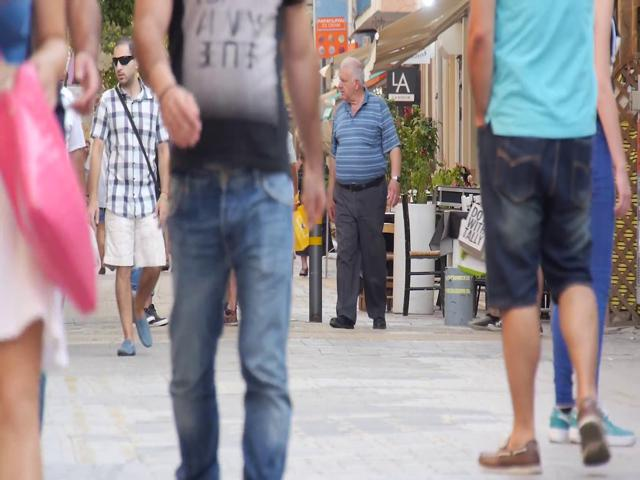shoe: (478, 438, 541, 477), (580, 401, 611, 468), (134, 309, 154, 348), (328, 314, 356, 329), (117, 339, 136, 356), (370, 315, 386, 330)
